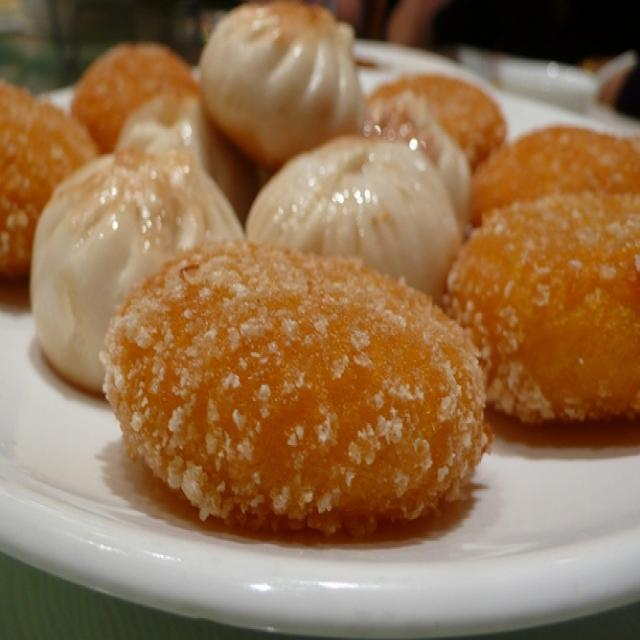炸货点心: (1, 4, 636, 630)
蛋糕甜品: (1, 4, 636, 630)
